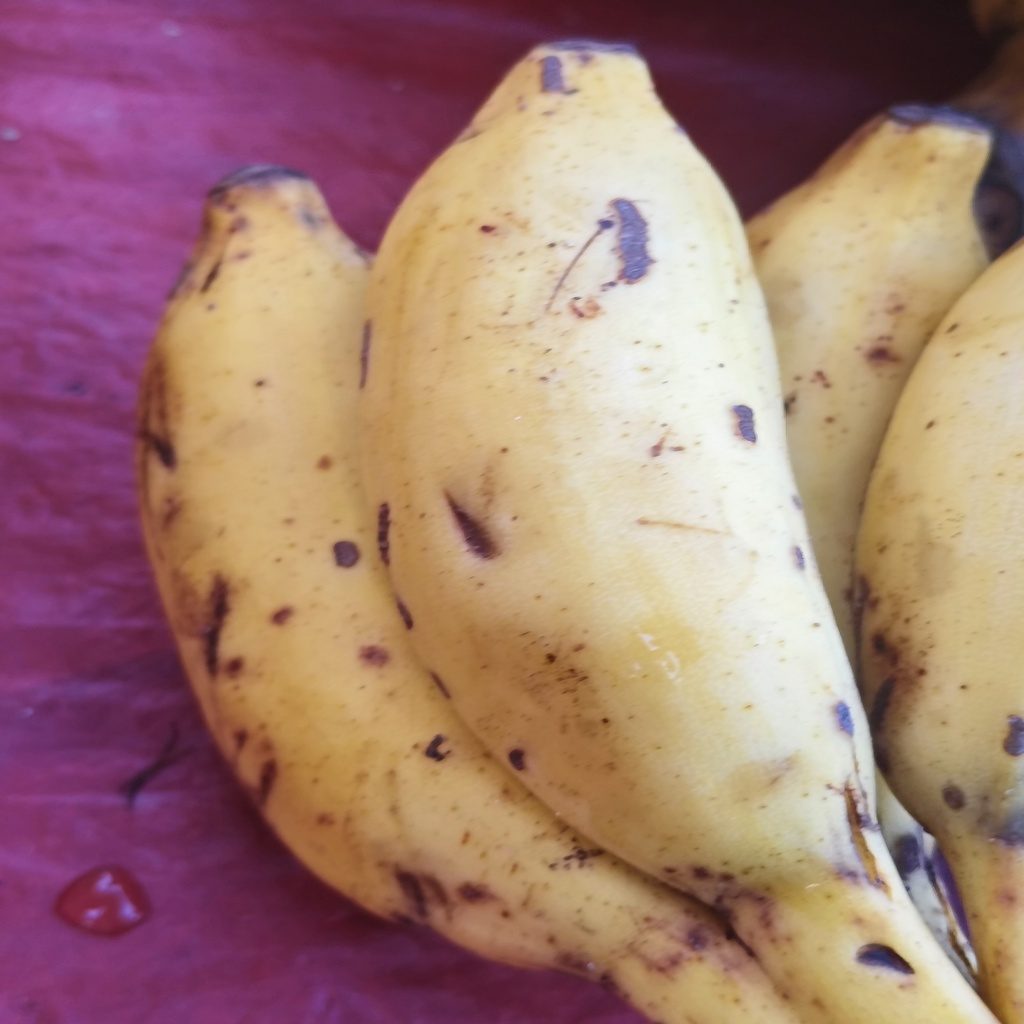unhealthy: (357, 39, 883, 875), (142, 164, 663, 976)
